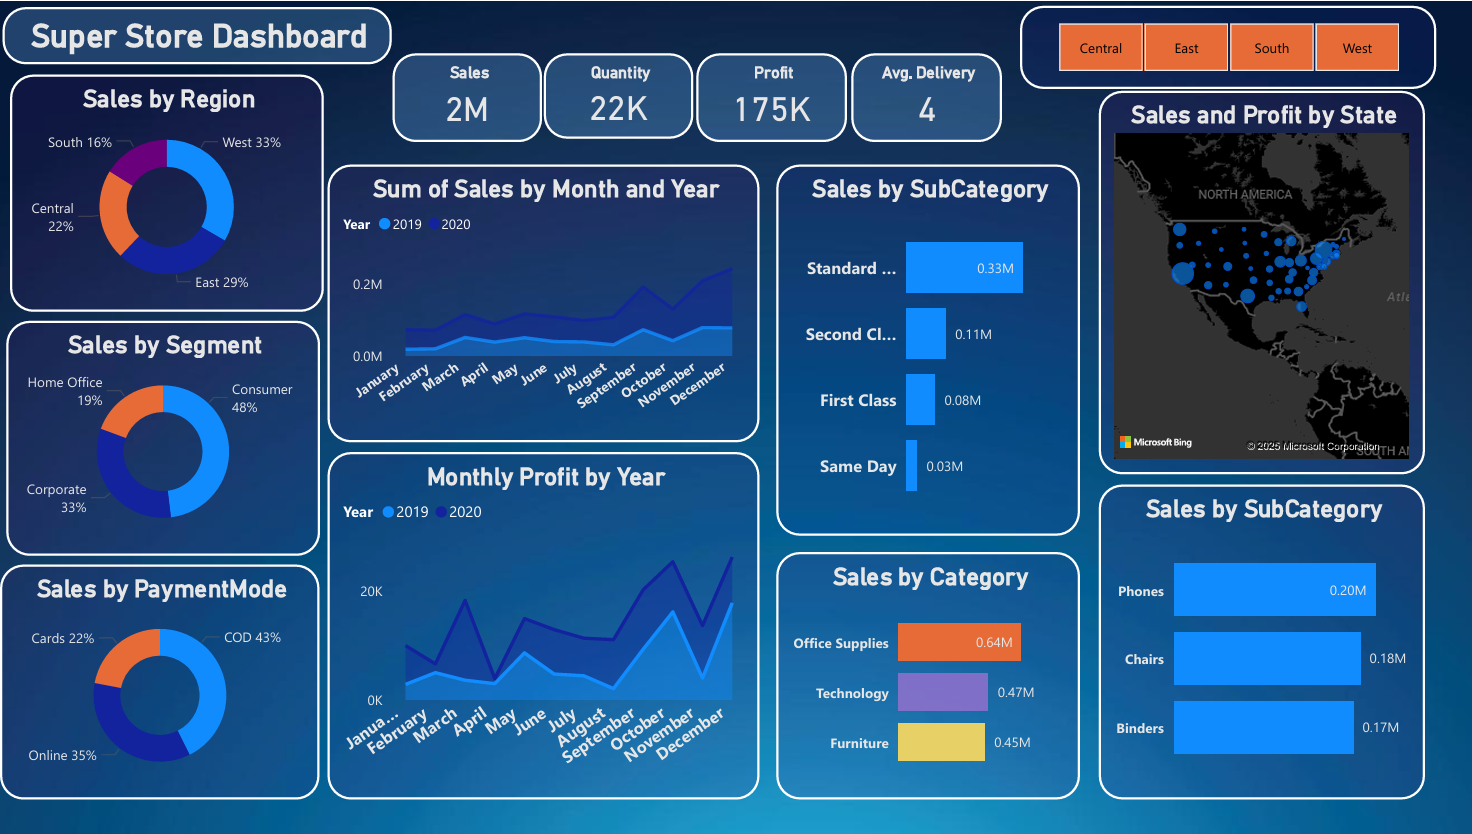

Layout of this report page (visuals, bound fields, positions):
{"tool":"powerbi","page":{"name":"Page 1","canvas":[1280,720],"ordinal":0},"visuals":[{"type":"clusteredBarChart","title":"Sales by Category","fields":{"Category":["SuperStore_Sales_Dataset.Category"],"Y":["Sum(SuperStore_Sales_Dataset.Sales)"]},"box":[690,488.6,270,220],"z":0},{"type":"clusteredBarChart","title":"Sales by SubCategory","fields":{"Y":["Sum(SuperStore_Sales_Dataset.Sales)"],"Category":["SuperStore_Sales_Dataset.Sub-Category"]},"box":[977.1,428.6,290,280],"z":1000},{"type":"clusteredBarChart","title":"Sales by SubCategory","fields":{"Y":["Sum(SuperStore_Sales_Dataset.Sales)"],"Category":["SuperStore_Sales_Dataset.Ship Mode"]},"box":[690,144.3,270,330],"z":2000},{"type":"stackedAreaChart","fields":{"Y":["Sum(SuperStore_Sales_Dataset.Sales)"],"Category":["SuperStore_Sales_Dataset.Order Date.Variation.Date Hierarchy.Month","SuperStore_Sales_Dataset.Order Date.Variation.Date Hierarchy.Day"],"Series":["SuperStore_Sales_Dataset.Order Date.Variation.Date Hierarchy.Year"]},"box":[291.4,144.3,384.3,247.1],"z":3000},{"type":"stackedAreaChart","title":"Monthly Profit by  Year","fields":{"Category":["SuperStore_Sales_Dataset.Order Date.Variation.Date Hierarchy.Month","SuperStore_Sales_Dataset.Order Date.Variation.Date Hierarchy.Day"],"Series":["SuperStore_Sales_Dataset.Order Date.Variation.Date Hierarchy.Year"],"Y":["Sum(SuperStore_Sales_Dataset.Profit)"]},"box":[291.4,400,384.3,308.6],"z":4000},{"type":"map","title":"Sales and Profit by State","fields":{"Category":["SuperStore_Sales_Dataset.State"],"Size":["Sum(SuperStore_Sales_Dataset.Sales)"]},"box":[977.1,78.6,290,341.4],"z":5000},{"type":"donutChart","title":"Sales by PaymentMode","fields":{"Category":["SuperStore_Sales_Dataset.Payment Mode"],"Y":["Sum(SuperStore_Sales_Dataset.Sales)"]},"box":[0,500,284.3,208.6],"z":6000},{"type":"donutChart","title":"Sales by Segment","fields":{"Category":["SuperStore_Sales_Dataset.Segment"],"Y":["Sum(SuperStore_Sales_Dataset.Sales)"]},"box":[5.7,282.9,278.6,208.6],"z":7000},{"type":"donutChart","title":"Sales by Region","fields":{"Category":["SuperStore_Sales_Dataset.Region"],"Y":["Sum(SuperStore_Sales_Dataset.Sales)"]},"box":[8.6,64.3,278.6,211.4],"z":8000},{"type":"slicer","fields":{"Values":["SuperStore_Sales_Dataset.Region"]},"box":[907.1,2.9,370,74.3],"z":9000},{"type":"textbox","title":"Super Store Dashboard","box":[2.9,4.3,337.1,50],"z":10000},{"type":"card","title":"Sales","fields":{"Values":["Sum(SuperStore_Sales_Dataset.Sales)"]},"box":[348.6,45.7,132.9,78.6],"z":11000},{"type":"card","title":"Quantity","fields":{"Values":["Sum(SuperStore_Sales_Dataset.Quantity)"]},"box":[483.7,45.1,132.9,75.7],"z":12000},{"type":"card","title":"Profit","fields":{"Values":["Sum(SuperStore_Sales_Dataset.Profit)"]},"box":[619.4,45.1,134.3,78.6],"z":13000},{"type":"card","title":"Avg. Delivery","fields":{"Values":["Avg(SuperStore_Sales_Dataset.AvgDilivery)"]},"box":[756.6,45.1,134.3,78.6],"z":14000}]}

Visuals, with their boxes in screenshot pixels (x1, y1, x2, y2), scaled from the page's 1280x720 canvas onto the 1472x834 screenshot:
"Sales by Category" clusteredBarChart: bbox=[793, 566, 1104, 821]
"Sales by SubCategory" clusteredBarChart: bbox=[1124, 496, 1457, 821]
"Sales by SubCategory" clusteredBarChart: bbox=[793, 167, 1104, 549]
stackedAreaChart - Sum(SuperStore_Sales_Dataset.Sales) x SuperStore_Sales_Dataset.Order Date.Variation.Date Hierarchy.Month: bbox=[335, 167, 777, 453]
"Monthly Profit by  Year" stackedAreaChart: bbox=[335, 463, 777, 821]
"Sales and Profit by State" map: bbox=[1124, 91, 1457, 487]
"Sales by PaymentMode" donutChart: bbox=[0, 579, 327, 821]
"Sales by Segment" donutChart: bbox=[7, 328, 327, 569]
"Sales by Region" donutChart: bbox=[10, 74, 330, 319]
slicer - SuperStore_Sales_Dataset.Region: bbox=[1043, 3, 1469, 89]
"Super Store Dashboard" textbox: bbox=[3, 5, 391, 63]
"Sales" card: bbox=[401, 53, 554, 144]
"Quantity" card: bbox=[556, 52, 709, 140]
"Profit" card: bbox=[712, 52, 867, 143]
"Avg. Delivery" card: bbox=[870, 52, 1025, 143]
